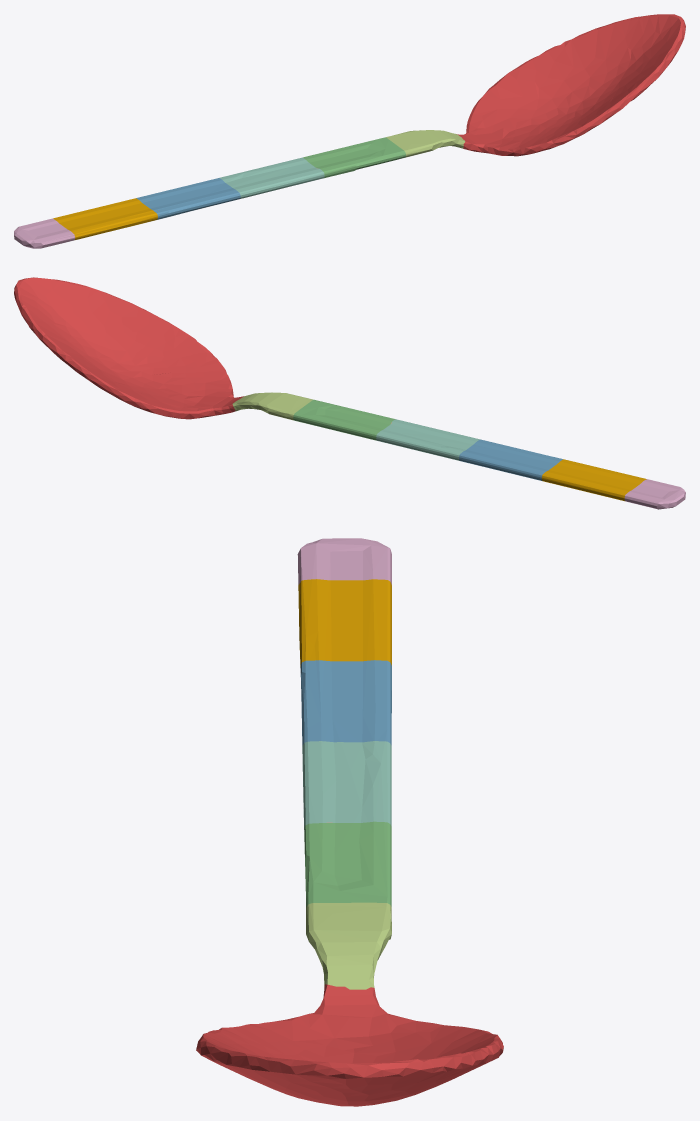
The model's file is mode_10_8pcs.glb.
The picture shows the model from 3 angles, top to bottom: view 1: azimuth 30°, elevation 25°; view 2: azimuth 150°, elevation 25°; view 3: azimuth 270°, elevation 25°; orthographic projection. The views are drawn at different scales.
Parts seen in each view (by area): view 1: piece_1.obj, piece_0.obj, piece_2.obj, piece_4.obj, piece_3.obj, piece_5.obj, piece_6.obj; view 2: piece_1.obj, piece_0.obj, piece_2.obj, piece_4.obj, piece_3.obj, piece_5.obj, piece_6.obj; view 3: piece_1.obj, piece_0.obj, piece_2.obj, piece_4.obj, piece_3.obj, piece_5.obj, piece_6.obj.
Part boxes in pixels (x1,y1,x2,y2): piece_1.obj: [457, 14, 685, 156]; piece_0.obj: [53, 198, 157, 239]; piece_2.obj: [136, 178, 240, 219]; piece_4.obj: [219, 157, 324, 198]; piece_3.obj: [303, 137, 405, 178]; piece_5.obj: [386, 130, 465, 157]; piece_6.obj: [14, 218, 75, 248]; piece_1.obj: [14, 277, 243, 419]; piece_0.obj: [541, 459, 646, 501]; piece_2.obj: [459, 439, 562, 480]; piece_4.obj: [376, 419, 480, 460]; piece_3.obj: [293, 399, 395, 440]; piece_5.obj: [232, 392, 313, 420]; piece_6.obj: [624, 479, 685, 509]; piece_1.obj: [196, 984, 503, 1106]; piece_0.obj: [298, 579, 391, 666]; piece_2.obj: [300, 660, 391, 745]; piece_4.obj: [302, 741, 391, 829]; piece_3.obj: [304, 821, 391, 907]; piece_5.obj: [306, 902, 391, 989]; piece_6.obj: [297, 538, 391, 584].
Bounding box in the file's own units: 1 × 0.118 × 0.2013.
